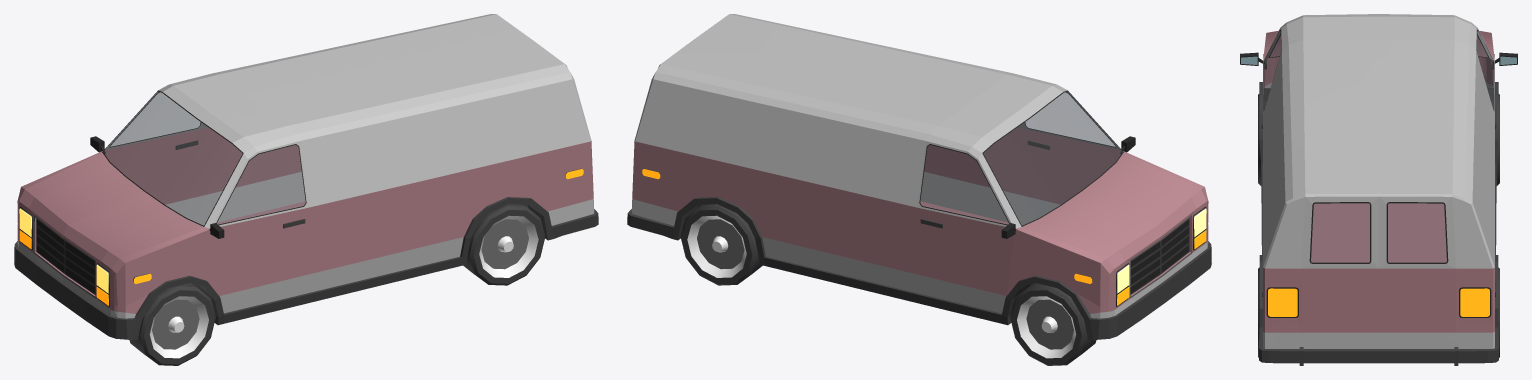
Rendered from panel-van.glb.
3 renders of one model, left to right at view 1: azimuth 30°, elevation 25°; view 2: azimuth 150°, elevation 25°; view 3: azimuth 270°, elevation 25°, orthographic. The views are drawn at different scales.
Visible parts, largest first — view 1: N Van_10, N Van_10 FL Tire, N Van_10 BL Tire; view 2: N Van_10, N Van_10 BR Tire, N Van_10 FR Tire; view 3: N Van_10, N Van_10 FL Tire, N Van_10 FR Tire.
Part boxes in pixels (x1=…): N Van_10: x1=14, y1=14, x2=598, y2=340; N Van_10 FL Tire: x1=129, y1=283, x2=215, y2=365; N Van_10 BL Tire: x1=463, y1=204, x2=545, y2=285; N Van_10: x1=627, y1=14, x2=1211, y2=340; N Van_10 BR Tire: x1=680, y1=204, x2=762, y2=285; N Van_10 FR Tire: x1=1010, y1=283, x2=1096, y2=365; N Van_10: x1=1240, y1=14, x2=1517, y2=365; N Van_10 FL Tire: x1=1258, y1=94, x2=1261, y2=185; N Van_10 FR Tire: x1=1496, y1=94, x2=1499, y2=185.
Bounding box in the file's own units: 5 × 1.9 × 2.28.
Materials: 3 (2 with a texture image).
